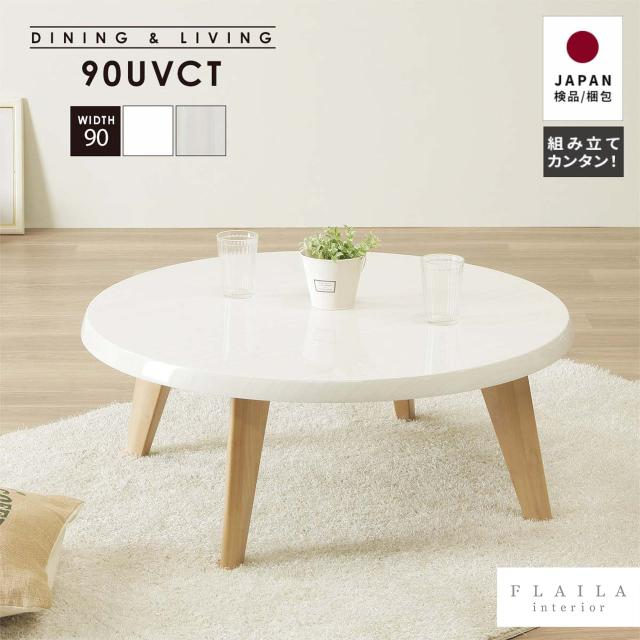natural desk: (78, 243, 573, 575)
